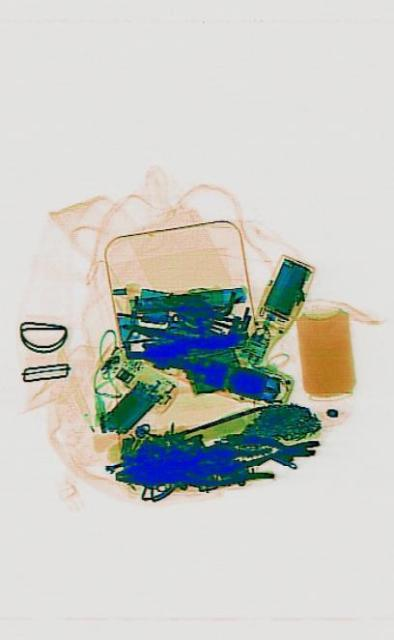Pliers: (215, 429, 318, 471)
